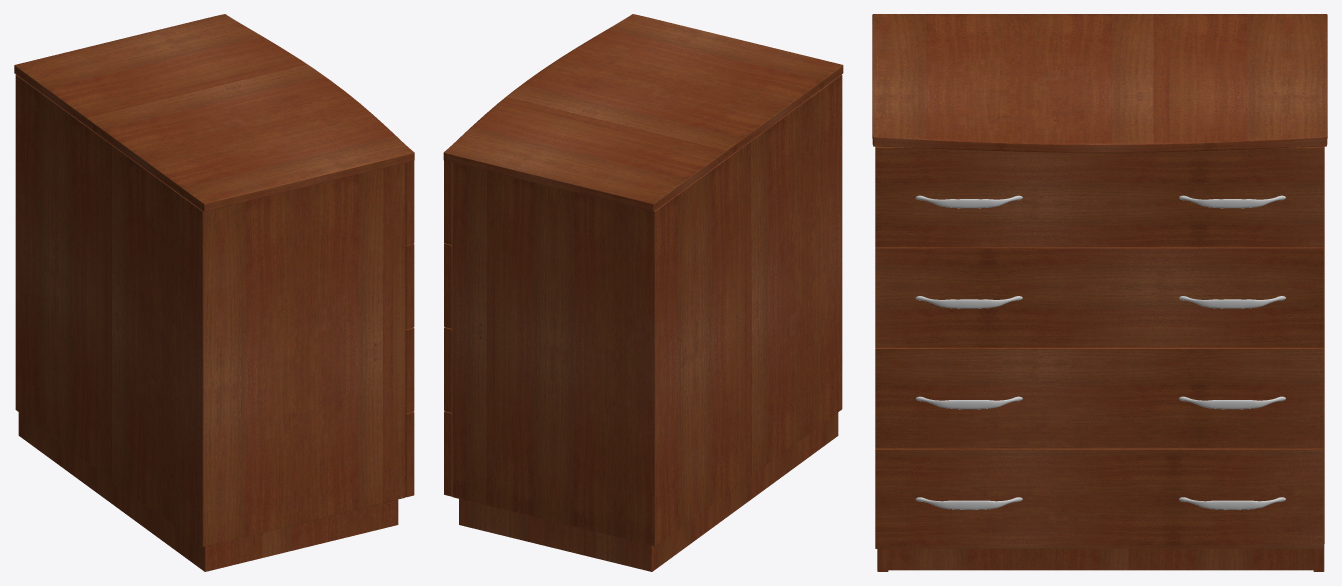
The model's file is chest.dae.
3 renders of one model, left to right at view 1: azimuth 30°, elevation 25°; view 2: azimuth 150°, elevation 25°; view 3: azimuth 270°, elevation 25°, orthographic. The views are drawn at different scales.
Visible parts, largest first — view 1: komod, polka1_002, polka1_001, polka1_003, polka1; view 2: komod, polka1_002, polka1_001, polka1_003, polka1; view 3: komod, polka1_002, polka1_003, polka1_001, polka1.
Boxes of the visible parts, x1,y1,x2,y2 form: komod: (14, 14, 414, 571); polka1_002: (405, 327, 414, 413); polka1_001: (405, 243, 414, 329); polka1_003: (405, 411, 414, 497); polka1: (405, 160, 414, 245); komod: (443, 14, 843, 571); polka1_002: (444, 327, 452, 412); polka1_001: (444, 243, 452, 328); polka1_003: (444, 411, 452, 496); polka1: (444, 160, 452, 244); komod: (872, 14, 1327, 571); polka1_002: (875, 347, 1324, 448); polka1_003: (875, 448, 1324, 548); polka1_001: (875, 247, 1324, 347); polka1: (875, 146, 1324, 247).
Size of the model in its own units: 0.5483 by 0.8112 by 0.8715.
Materials: 6 (3 with a texture image).
